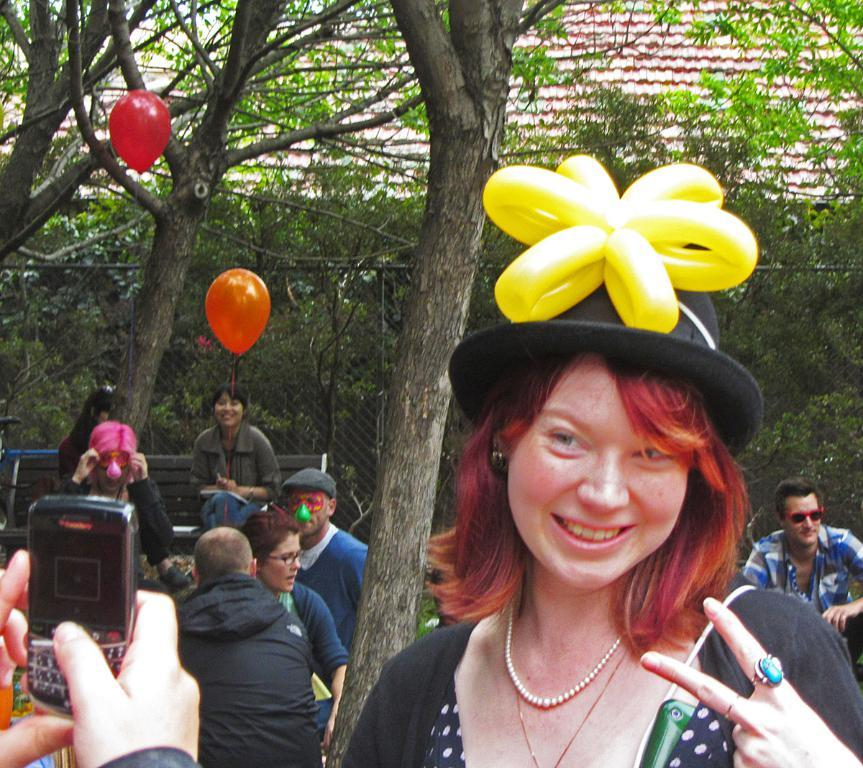Hat: (448, 275, 766, 463), (280, 465, 340, 499)
